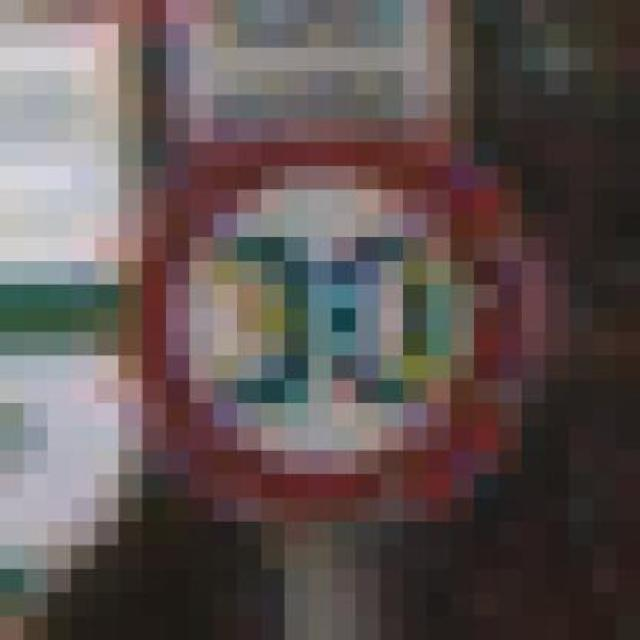Speed Limit 30 KMPh: (71, 95, 617, 593)
